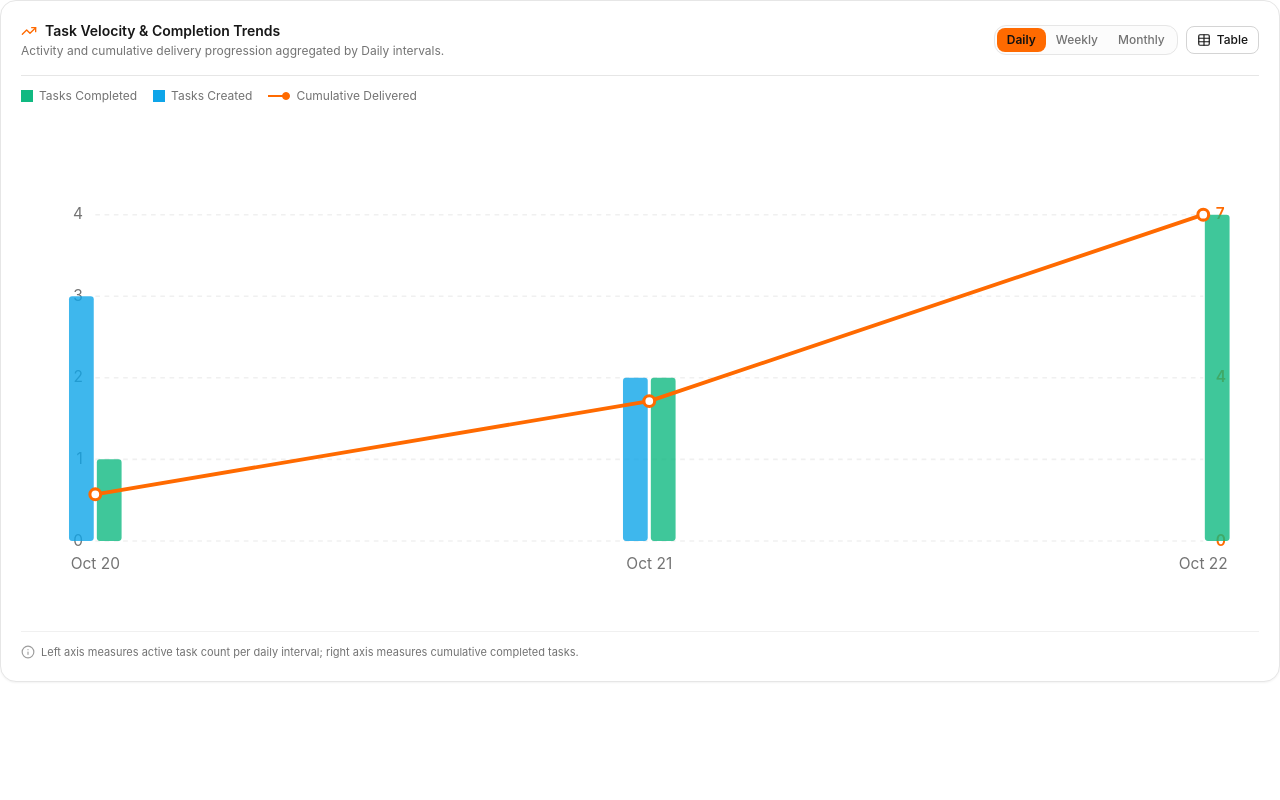
Test: CompletionTrendsChart › toggles accessible table view
Click the button with aria-label "show table view" at (1222, 40), box [1186,26,1259,54]
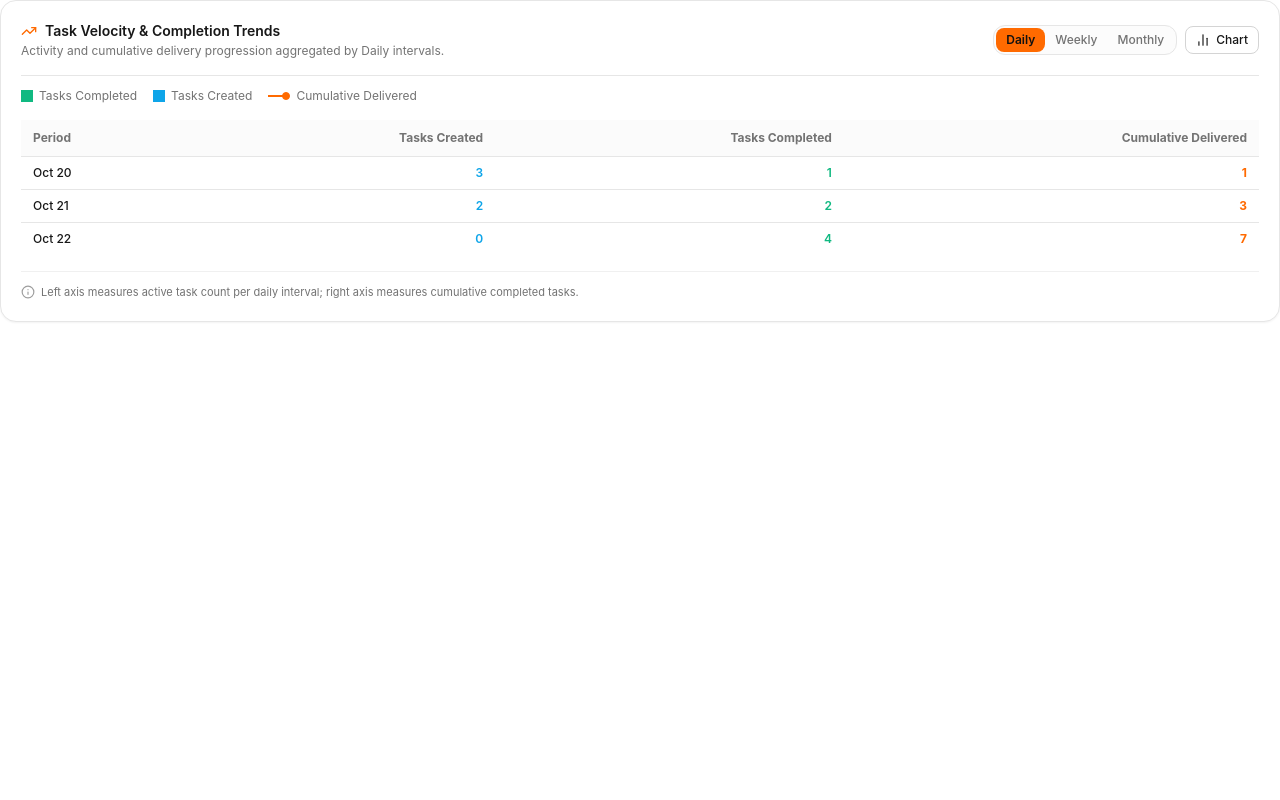
Check: the text "Oct 20" is shown, box [21,156,195,190]
Check: the table is shown, box [21,120,1259,255]
Check: the column heading "Period" is shown, box [21,120,195,156]
